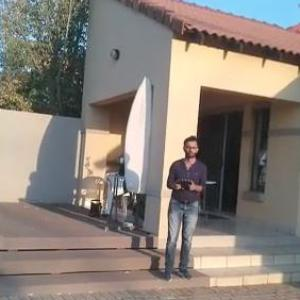follow: (160, 131, 210, 285)
